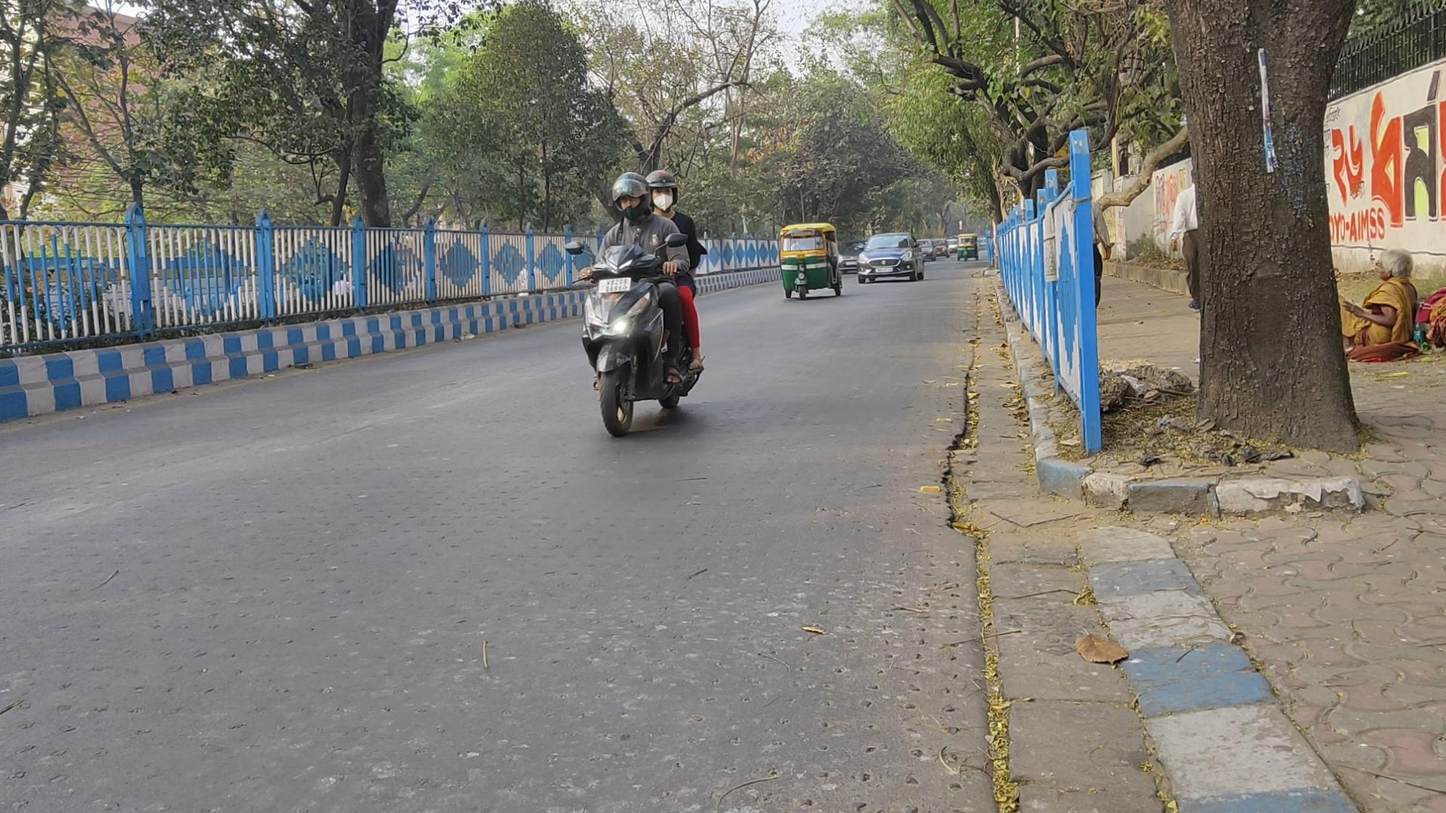Auto: (776, 222, 846, 303), (956, 232, 978, 260)
bike: (564, 170, 706, 435)
car: (857, 230, 925, 286), (913, 238, 937, 262), (933, 238, 950, 258)
